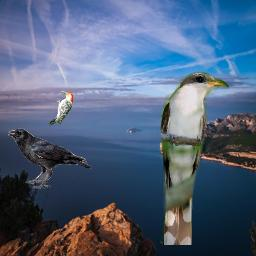Crow: (8, 128, 92, 189)
Cuckoo: (159, 71, 229, 245)
Woodpecker: (47, 89, 73, 127)
